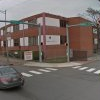crosswalk: (21, 67, 58, 78), (72, 65, 100, 75)
